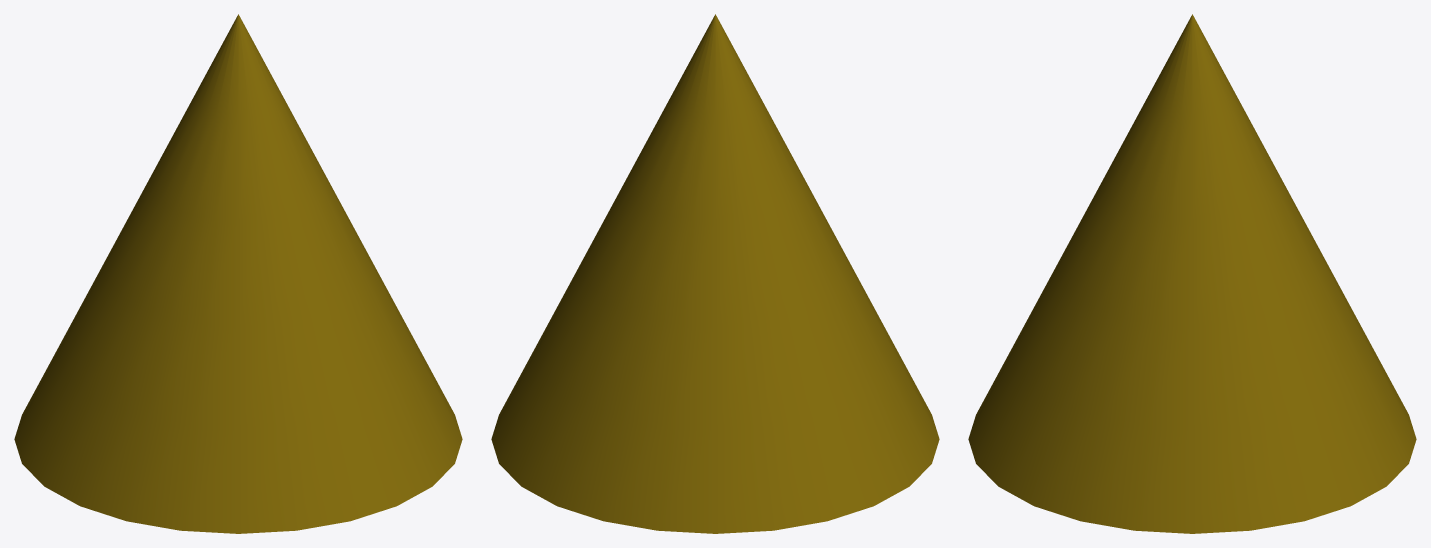
3 views of the same model, side by side, from view 1: azimuth 30°, elevation 25°; view 2: azimuth 150°, elevation 25°; view 3: azimuth 270°, elevation 25° (orthographic).
Visible parts, largest first — view 1: Cone001; view 2: Cone001; view 3: Cone001.
Boxes of the visible parts, x1,y1,x2,y2 form: Cone001: (14, 14, 462, 533); Cone001: (491, 14, 939, 533); Cone001: (968, 14, 1416, 533).
Bounding box in the file's own units: 11.9 × 12.45 × 11.9.
